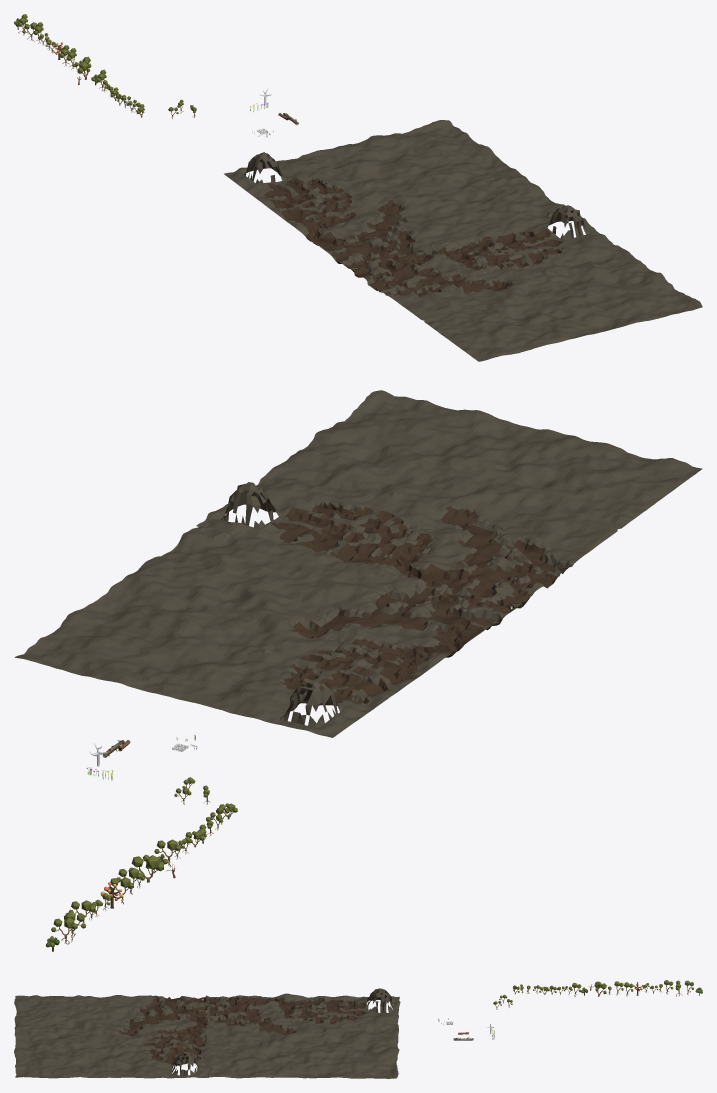
The model's file is terrainenhance.glb.
3 renders of one model, top to bottom at view 1: azimuth 30°, elevation 25°; view 2: azimuth 150°, elevation 25°; view 3: azimuth 270°, elevation 25°, orthographic. The views are drawn at different scales.
Visible parts, largest first — view 1: Gometry Nodes Skater haha.001, Gometry Nodes Skater haha; view 2: Gometry Nodes Skater haha, Gometry Nodes Skater haha.001; view 3: Gometry Nodes Skater haha.001, Gometry Nodes Skater haha.
Boxes of the visible parts, left/top/right/bottom form: Gometry Nodes Skater haha.001: left=224, top=120, right=564, bottom=271; Gometry Nodes Skater haha: left=351, top=205, right=702, bottom=361; Gometry Nodes Skater haha: left=196, top=390, right=702, bottom=608; Gometry Nodes Skater haha.001: left=14, top=523, right=521, bottom=737; Gometry Nodes Skater haha.001: left=203, top=988, right=400, bottom=1078; Gometry Nodes Skater haha: left=14, top=995, right=210, bottom=1078.
Bounding box in the file's own units: 21.29 × 2.8 × 69.48.
Materials: 31 (1 with a texture image).
